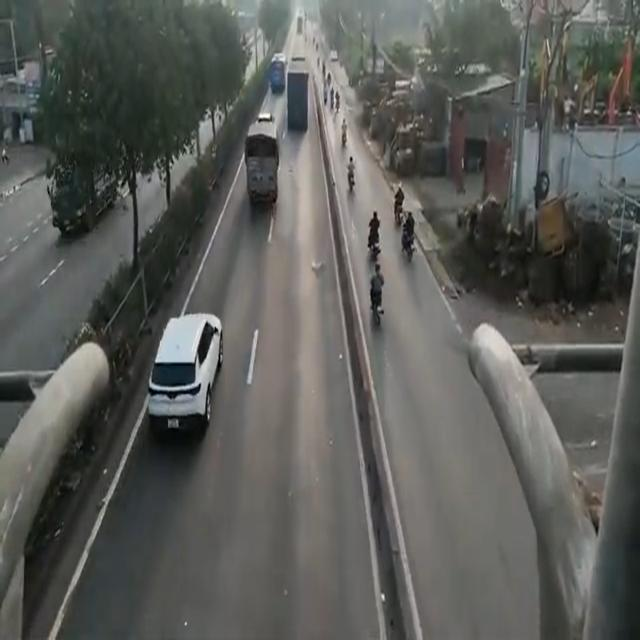bus: (268, 44, 286, 98)
car: (153, 307, 220, 440)
motor: (367, 273, 389, 327), (390, 179, 406, 220), (365, 216, 379, 262), (404, 216, 416, 264)
truck: (245, 121, 283, 210), (287, 54, 308, 136)
